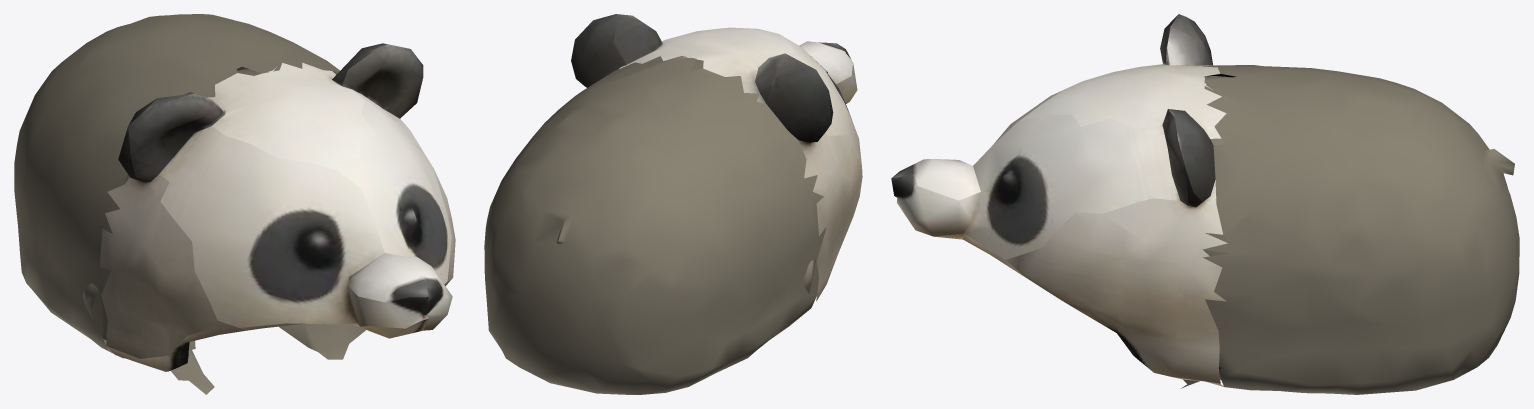
File: panda.glb
3 renders of one model, left to right at view 1: azimuth 30°, elevation 25°; view 2: azimuth 150°, elevation 25°; view 3: azimuth 270°, elevation 25°, orthographic. The views are drawn at different scales.
Visible parts, largest first — view 1: geometry_0, HoodAnatomicalLining; view 2: geometry_0, HoodAnatomicalLining; view 3: geometry_0.
Part boxes in pixels (<box>): geometry_0: <box>14,14,455,371</box>; HoodAnatomicalLining: <box>83,69,366,394</box>; geometry_0: <box>484,14,862,394</box>; HoodAnatomicalLining: <box>690,59,815,293</box>; geometry_0: <box>891,14,1519,394</box>.
Size of the model in its own units: 0.467 by 0.4439 by 0.8628.
2 materials, 1 textured.
